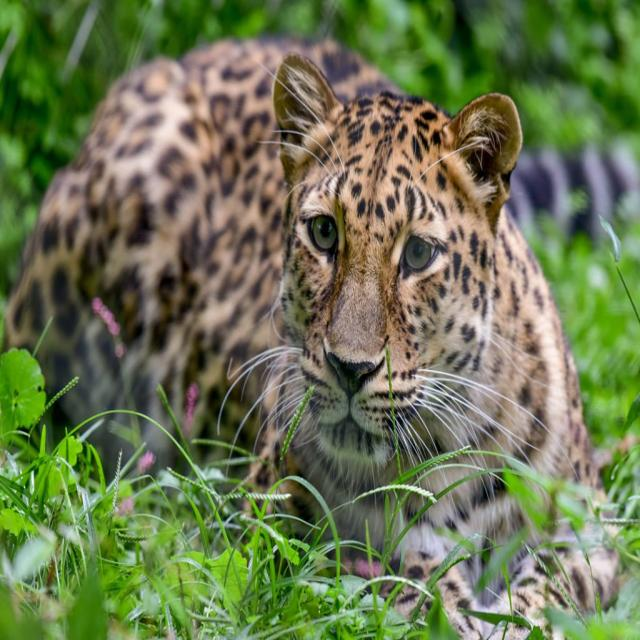Leopard: (17, 26, 577, 534)
